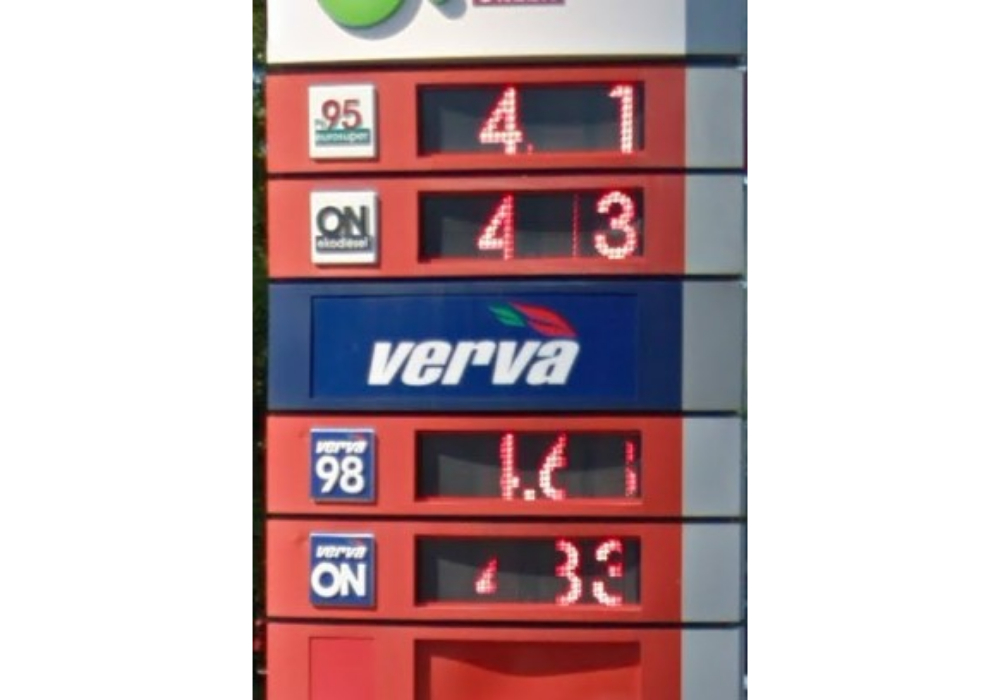ON: (307, 191, 380, 269), (306, 529, 375, 611)
PB95: (307, 82, 378, 163)
PB98: (307, 426, 379, 506)
